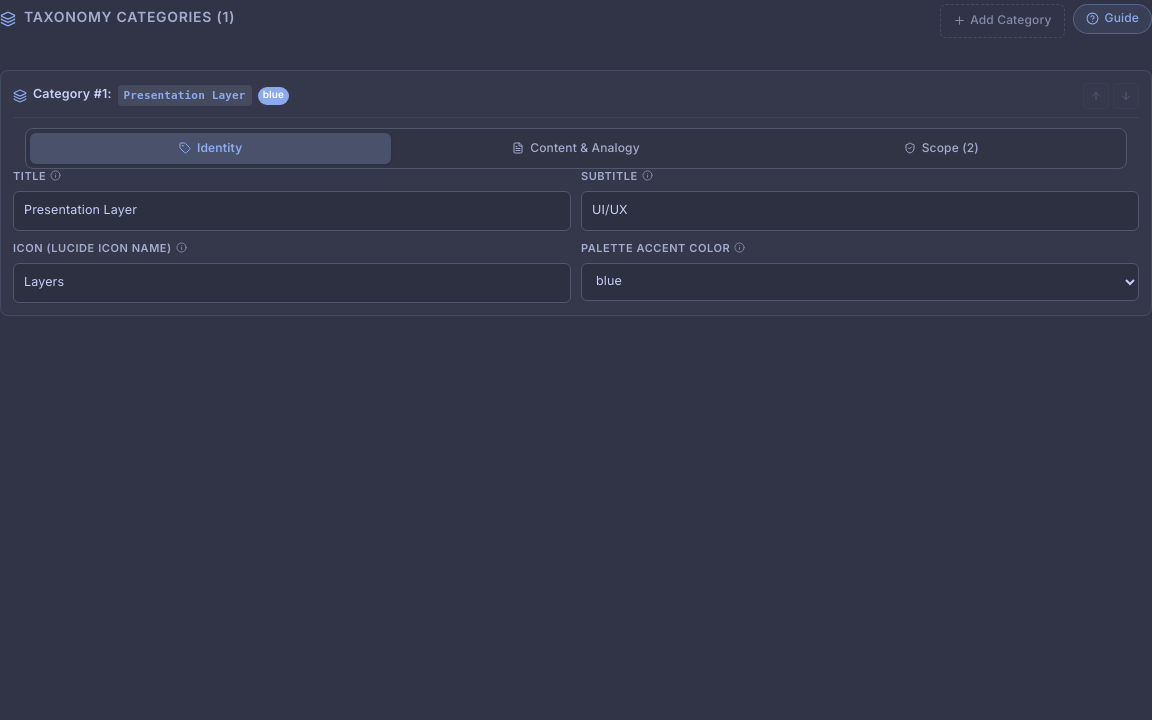
Test: VisualFormEditor › renders taxonomy browser form editor for taxonomy-browser type
Expected: the element with test id "taxonomy-browser-form-editor" is shown, [0, 0, 1151, 316]
Expected: the element with test id "taxonomy-category-card-0" is shown, [0, 70, 1151, 316]
Note: Test sub-tabs (Identity, Content, Scope)
Step 1. Click the button with test id "taxonomy-tab-content-0" → (576, 148), box [395, 132, 757, 164]
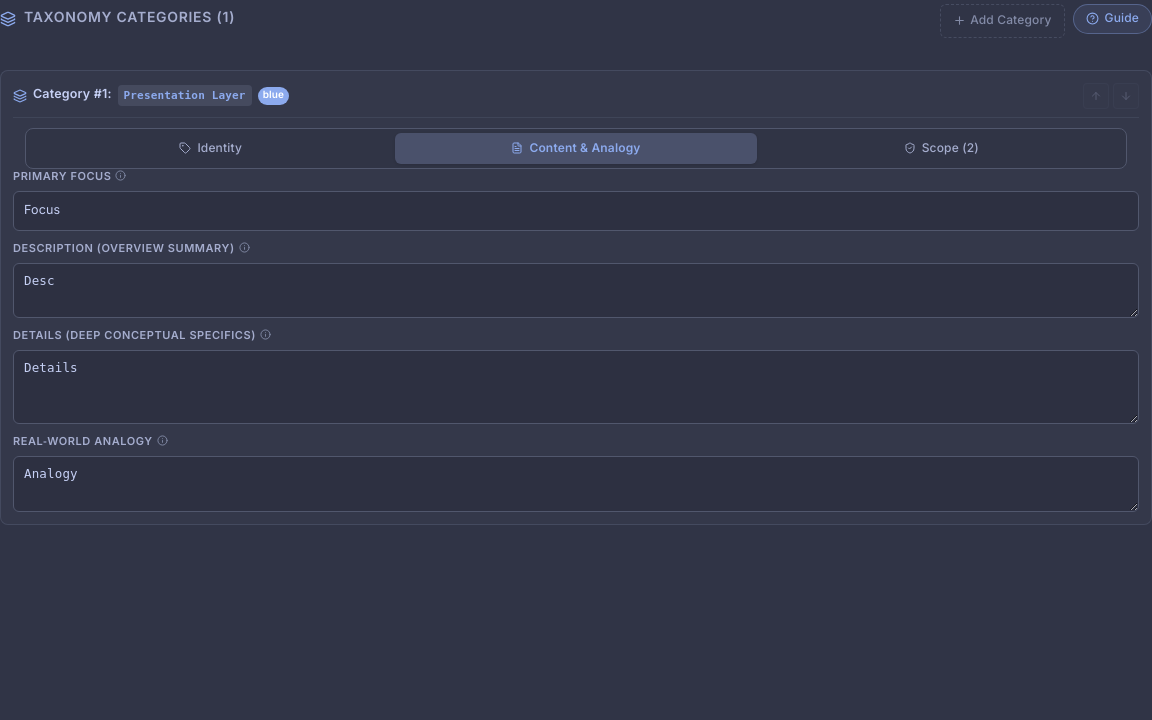
Now the text box with test id "taxonomy-0-description" is shown, box [13, 263, 1139, 318]
Step 2. Click the button with test id "taxonomy-tab-scope-0" → (941, 148), box [761, 132, 1122, 164]
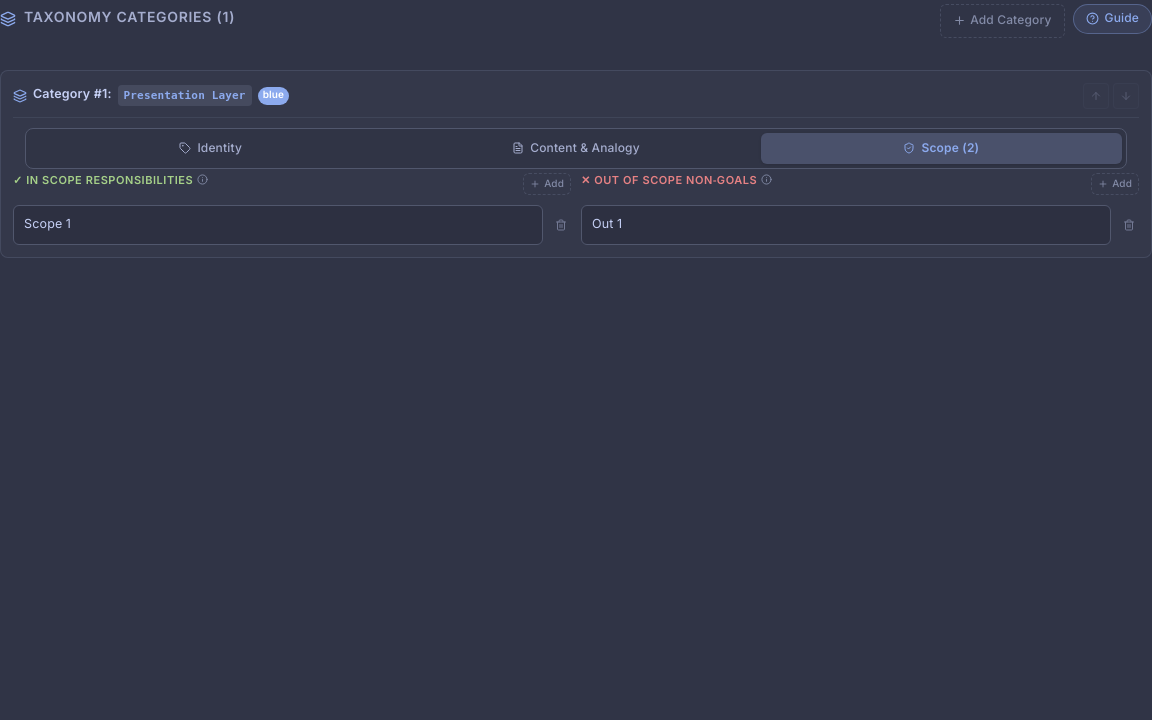
Now the field with test id "taxonomy-0-inscope-0" is shown, box [13, 205, 543, 245]
Note: Test guide modal
Step 3. Click the button with test id "taxonomy-editor-help-btn" → (1112, 19), box [1072, 4, 1151, 34]
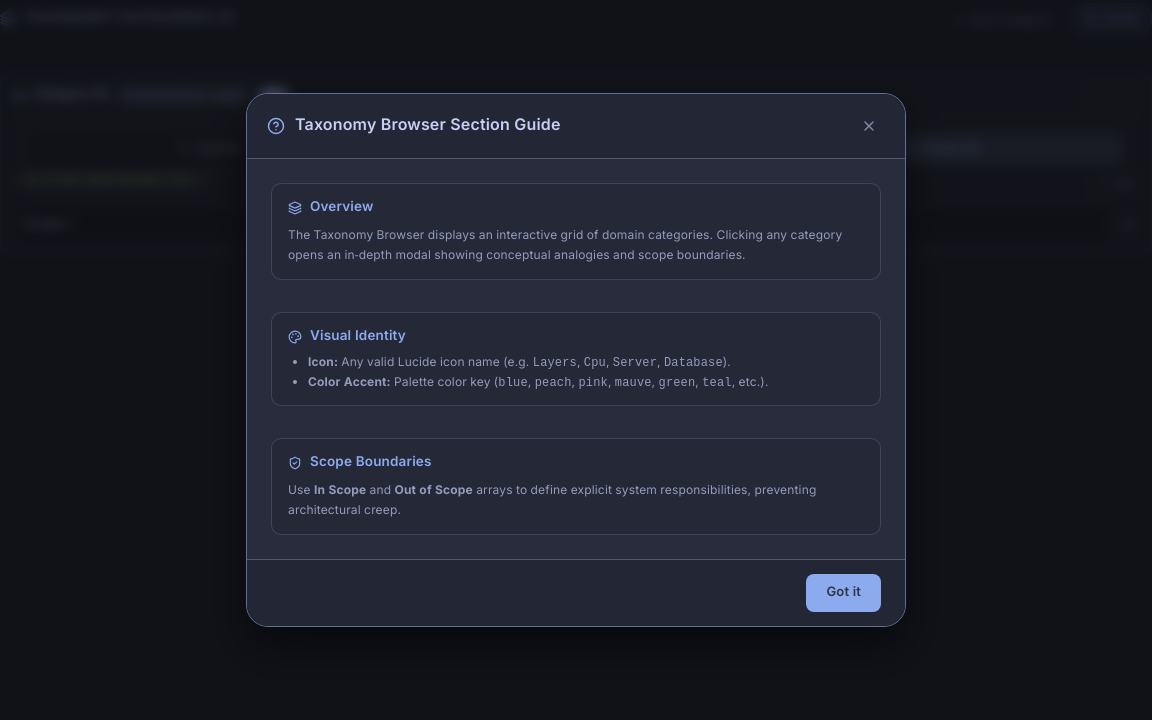
Now the element with test id "taxonomy-help-modal" is shown
